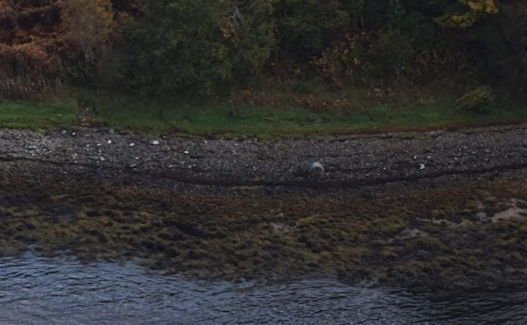white_in_green: (293, 145, 343, 192)
